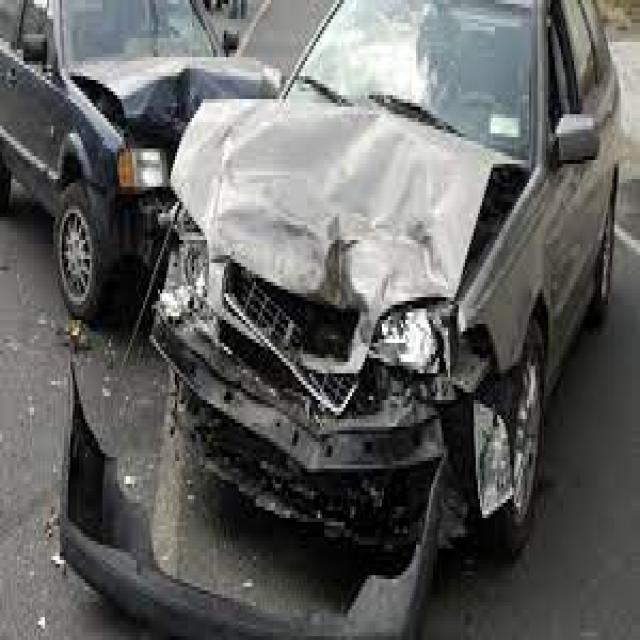accident: (0, 35, 614, 530)
